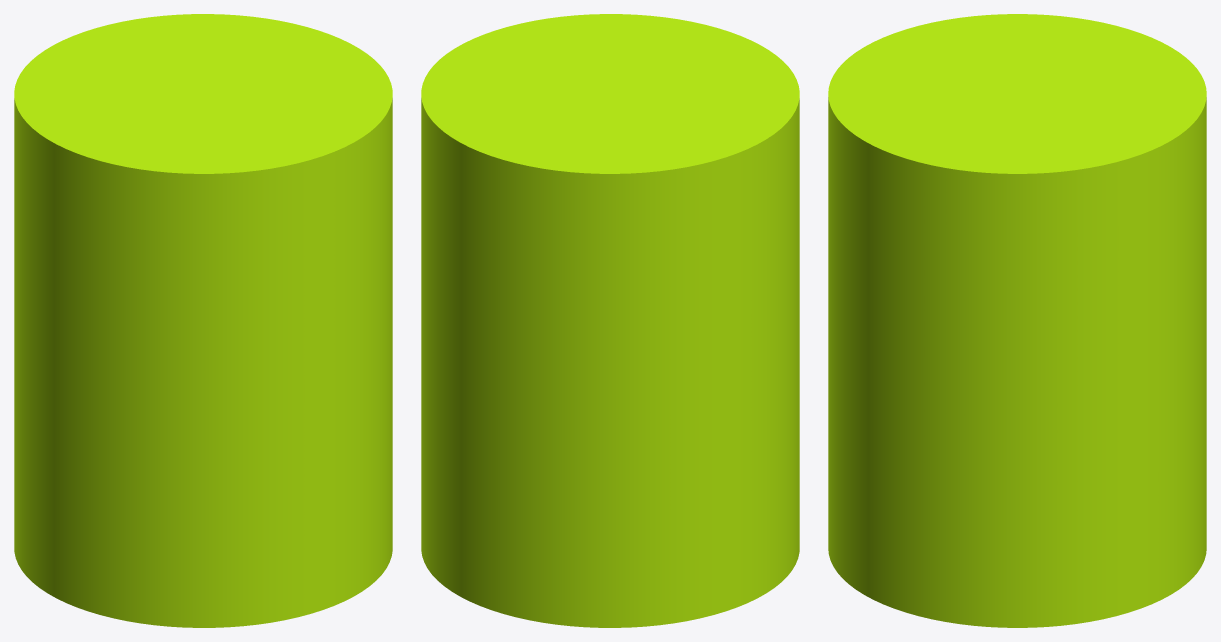
3 views of the same model, side by side, from view 1: azimuth 30°, elevation 25°; view 2: azimuth 150°, elevation 25°; view 3: azimuth 270°, elevation 25° (orthographic).
Visible parts, largest first — view 1: node_id5; view 2: node_id5; view 3: node_id5.
Boxes of the visible parts, <box> form: node_id5: <box>14,14,392,627</box>; node_id5: <box>421,14,799,627</box>; node_id5: <box>828,14,1206,627</box>.
Size of the model in its own units: 0.6874 by 0.9095 by 0.6874.
Materials: 1 (1 with a texture image).
